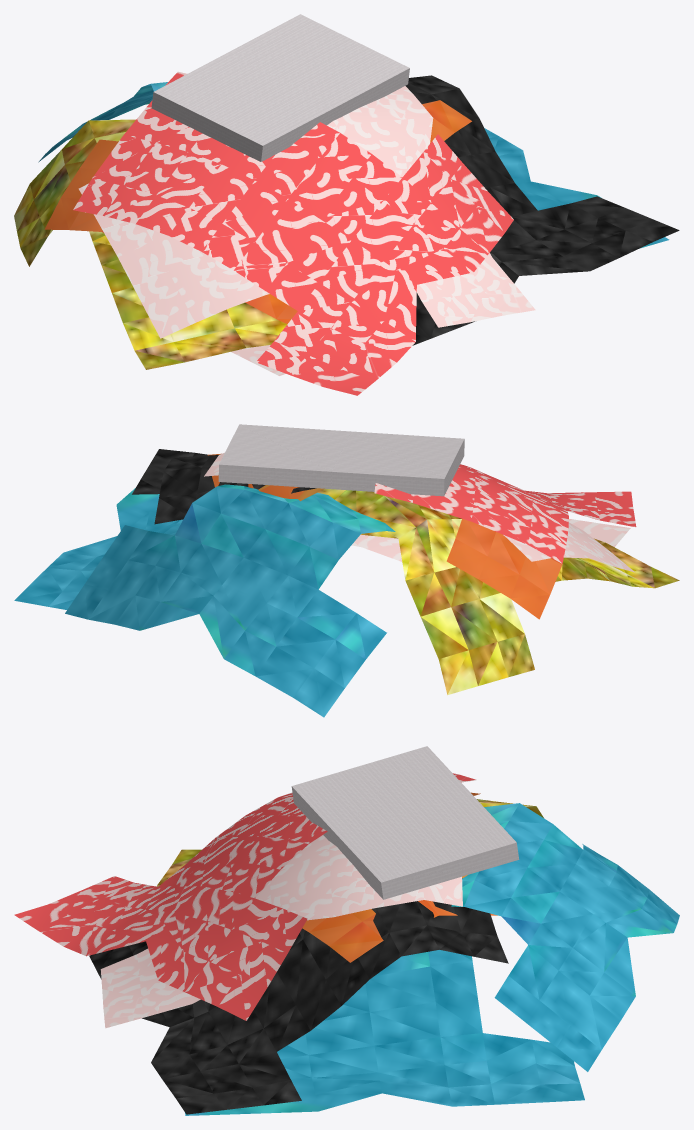
The model's file is ropa_libro.gltf.
3 renders of one model, top to bottom at view 1: azimuth 30°, elevation 25°; view 2: azimuth 150°, elevation 25°; view 3: azimuth 270°, elevation 25°, orthographic. The views are drawn at different scales.
Visible parts, largest first — view 1: Component#1, object 2, object 3; view 2: Component#1, object 2, object 3; view 3: Component#1, object 3, object 2.
Part boxes in pixels (<box>): Component#1: <box>14,71,679,395</box>; object 2: <box>151,53,336,161</box>; object 3: <box>227,14,409,119</box>; Component#1: <box>14,449,679,717</box>; object 2: <box>331,431,464,496</box>; object 3: <box>218,424,351,488</box>; Component#1: <box>14,773,679,1115</box>; object 3: <box>336,794,519,899</box>; object 2: <box>291,746,471,847</box>.
Size of the model in its own units: 1.31 by 0.3765 by 1.36.
Materials: 7 (7 with a texture image).
